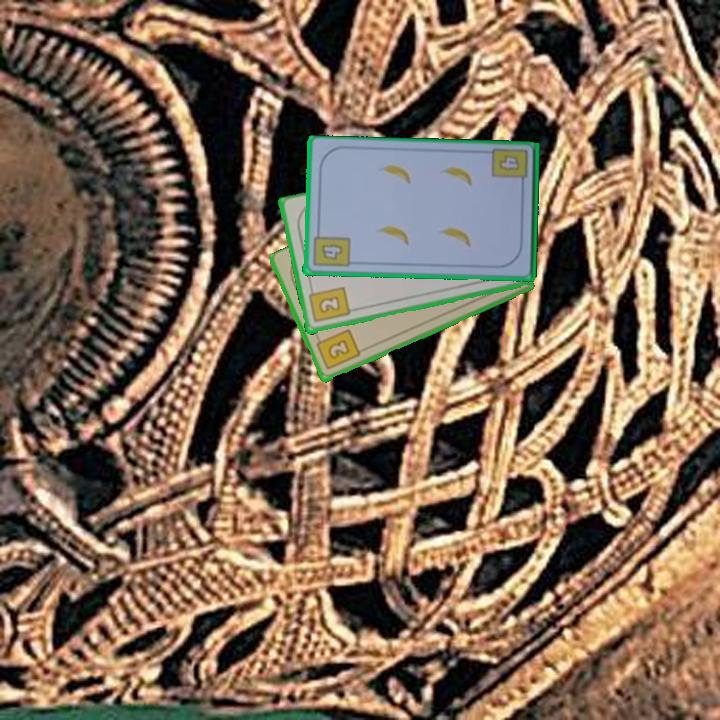2b: (312, 326, 363, 373), (305, 284, 352, 326)
4b: (309, 226, 352, 270), (495, 152, 522, 174)
